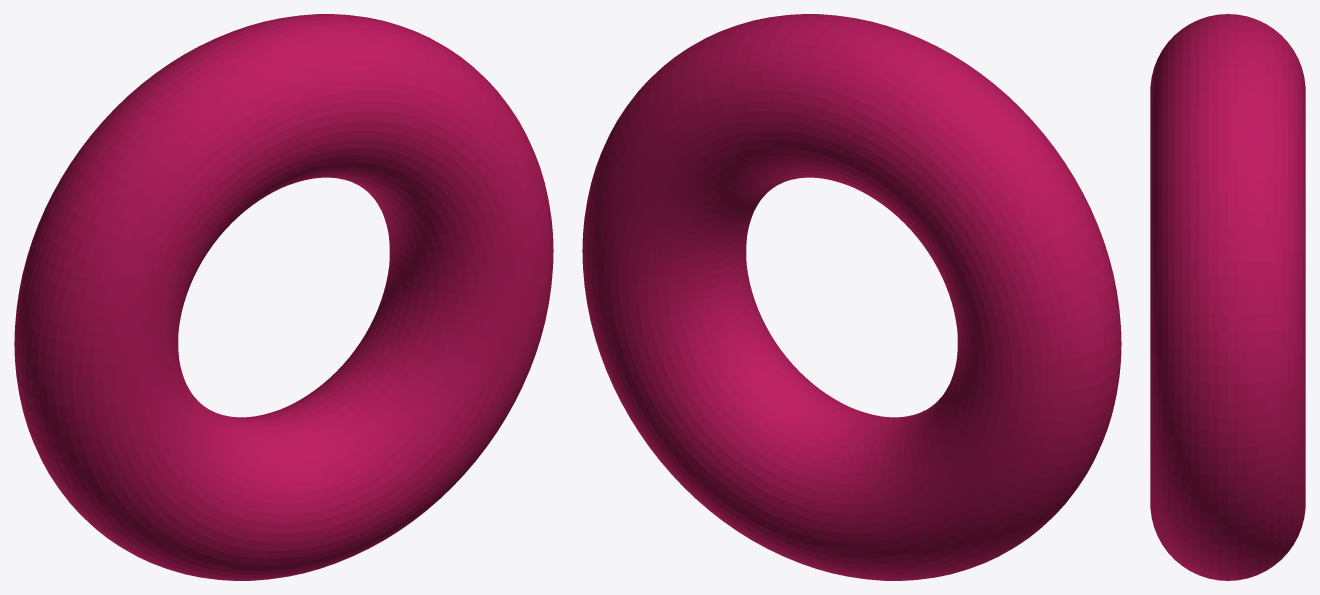
3 views of the same model, side by side, from view 1: azimuth 30°, elevation 25°; view 2: azimuth 150°, elevation 25°; view 3: azimuth 270°, elevation 25° (orthographic). The views are drawn at different scales.
Parts seen in each view (by area): view 1: world; view 2: world; view 3: world.
Part boxes in pixels (box(x1,y1,x2,y2)): world: box(14, 14, 553, 580); world: box(582, 14, 1121, 580); world: box(1150, 14, 1305, 580).
Size of the model in its own units: 24.8 by 24.8 by 6.79.
